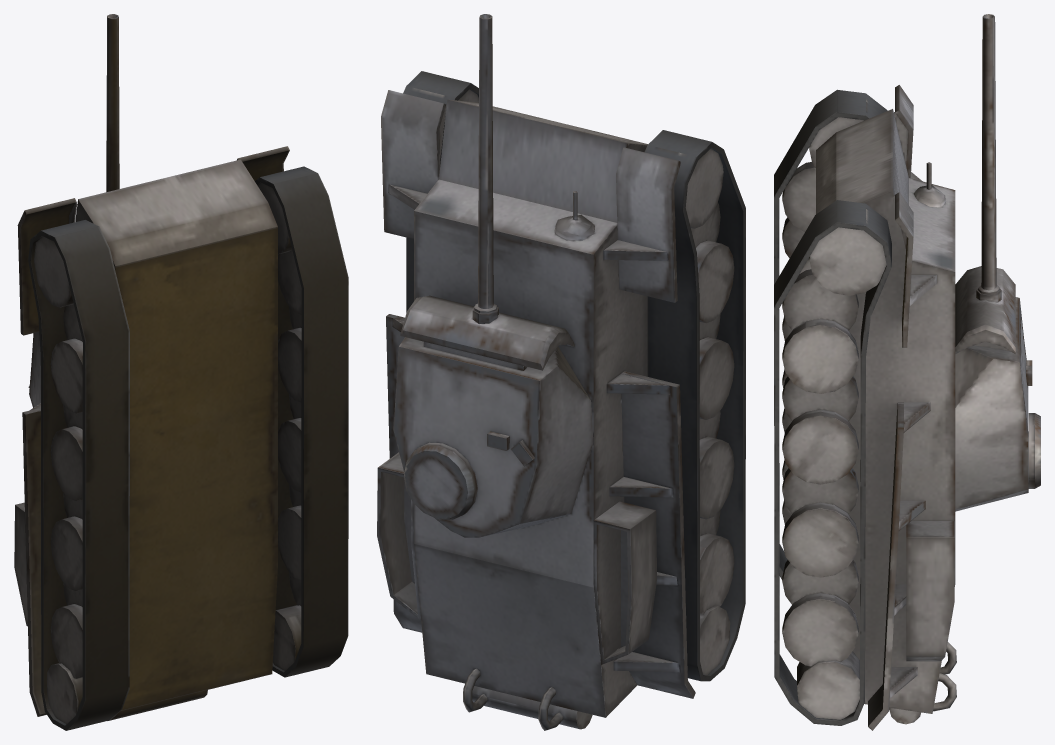
The picture shows the model from 3 angles, left to right: view 1: azimuth 30°, elevation 25°; view 2: azimuth 150°, elevation 25°; view 3: azimuth 270°, elevation 25°; orthographic projection. The views are drawn at different scales.
Parts seen in each view (by area): view 1: VK36001H Body, VK36001H Turret; view 2: VK36001H Body, VK36001H Turret; view 3: VK36001H Body, VK36001H Turret.
Part boxes in pixels (x1,y1,x2,y2): VK36001H Body: [14, 146, 348, 730]; VK36001H Turret: [28, 14, 119, 407]; VK36001H Body: [377, 71, 745, 730]; VK36001H Turret: [393, 14, 593, 537]; VK36001H Body: [774, 85, 956, 730]; VK36001H Turret: [955, 14, 1040, 511].
Bounding box in the file's own units: 120 × 289 × 102.
